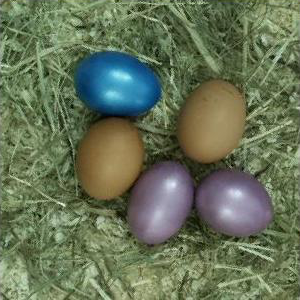egg: (76, 118, 145, 203), (177, 80, 246, 164), (127, 160, 193, 245), (76, 52, 161, 117), (195, 172, 277, 237)
